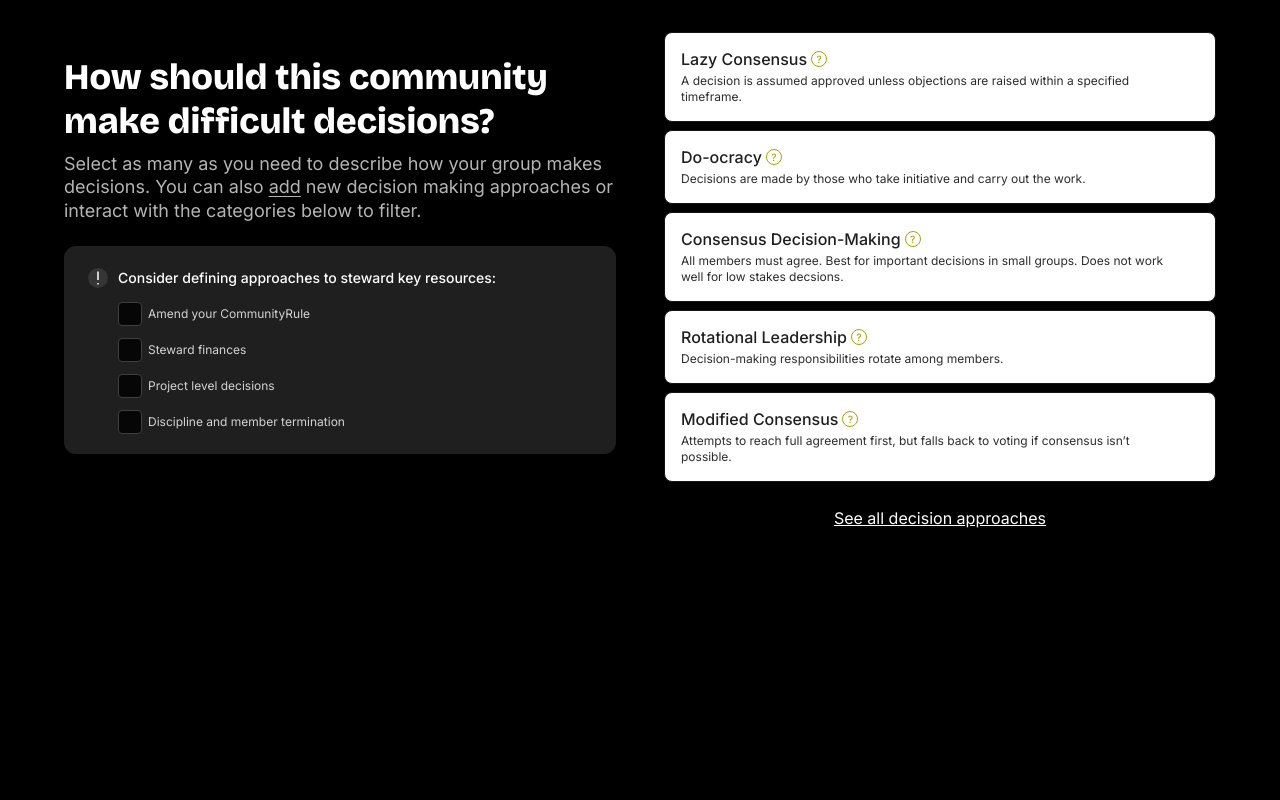
Test: Create flow decision-approaches page › Remove from the kebab deselects the approach
Click the button with aria-label "Lazy Consensus: A decision is assumed approved".
click(940, 77)  # box [664,32,1216,122]
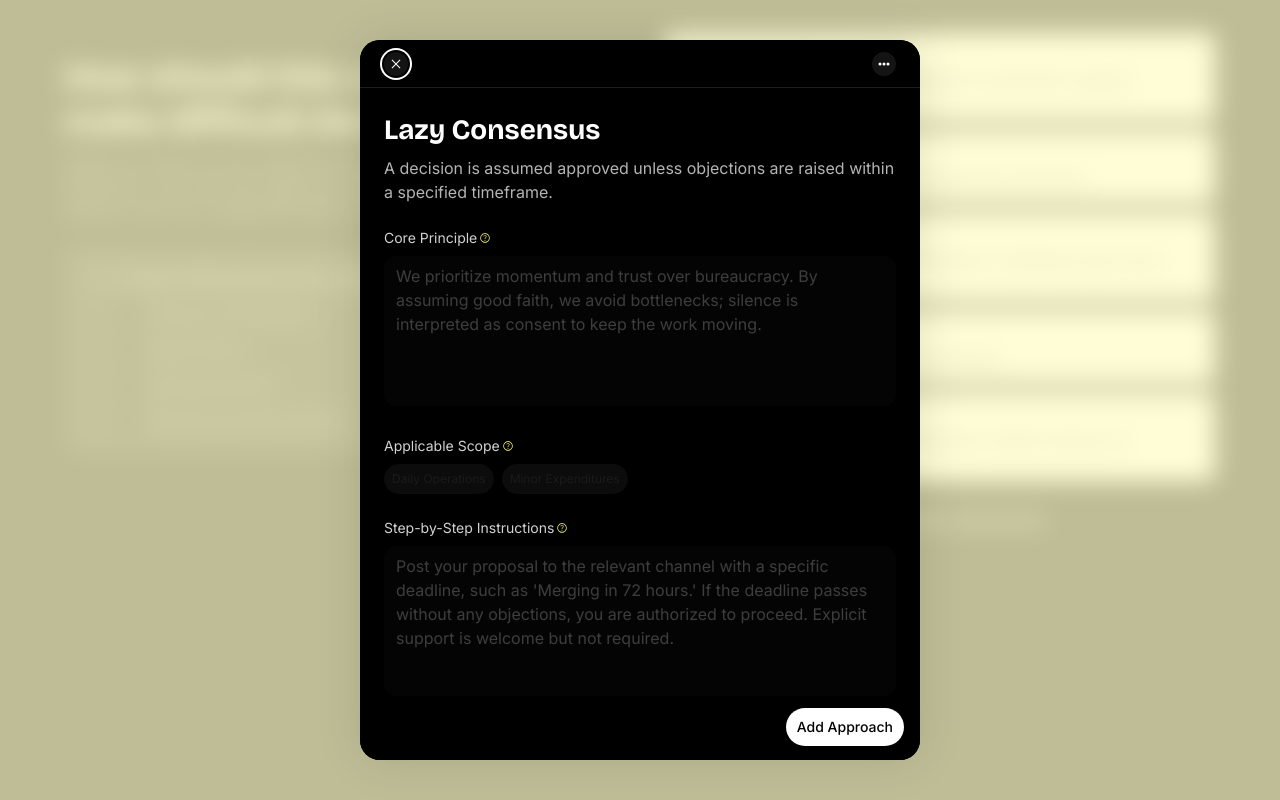
Click the button "Add Approach".
click(845, 727)  # box [786,708,904,746]
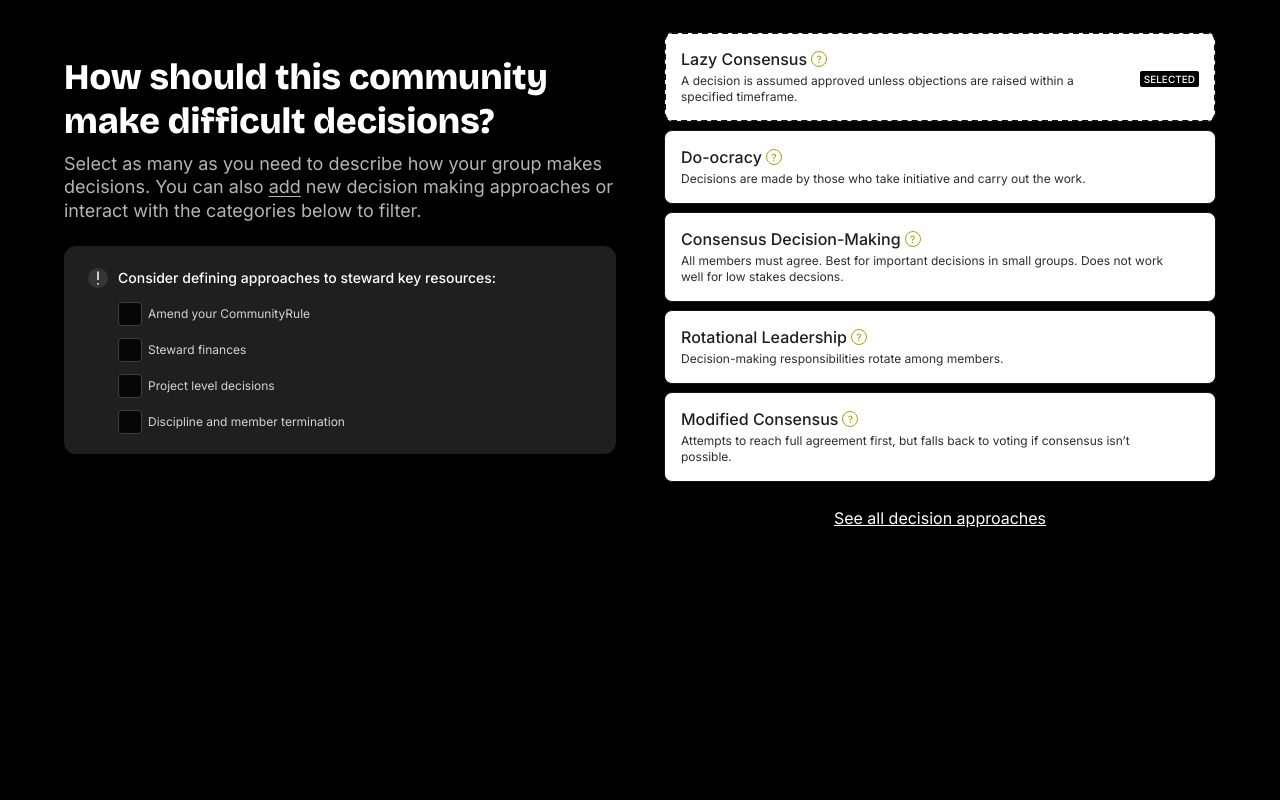
Check: the button with aria-label "Lazy Consensus: A decision is assumed approved" shows "SELECTED"
Click the button with aria-label "Lazy Consensus: A decision is assumed approved".
click(940, 77)  # box [664,32,1216,122]
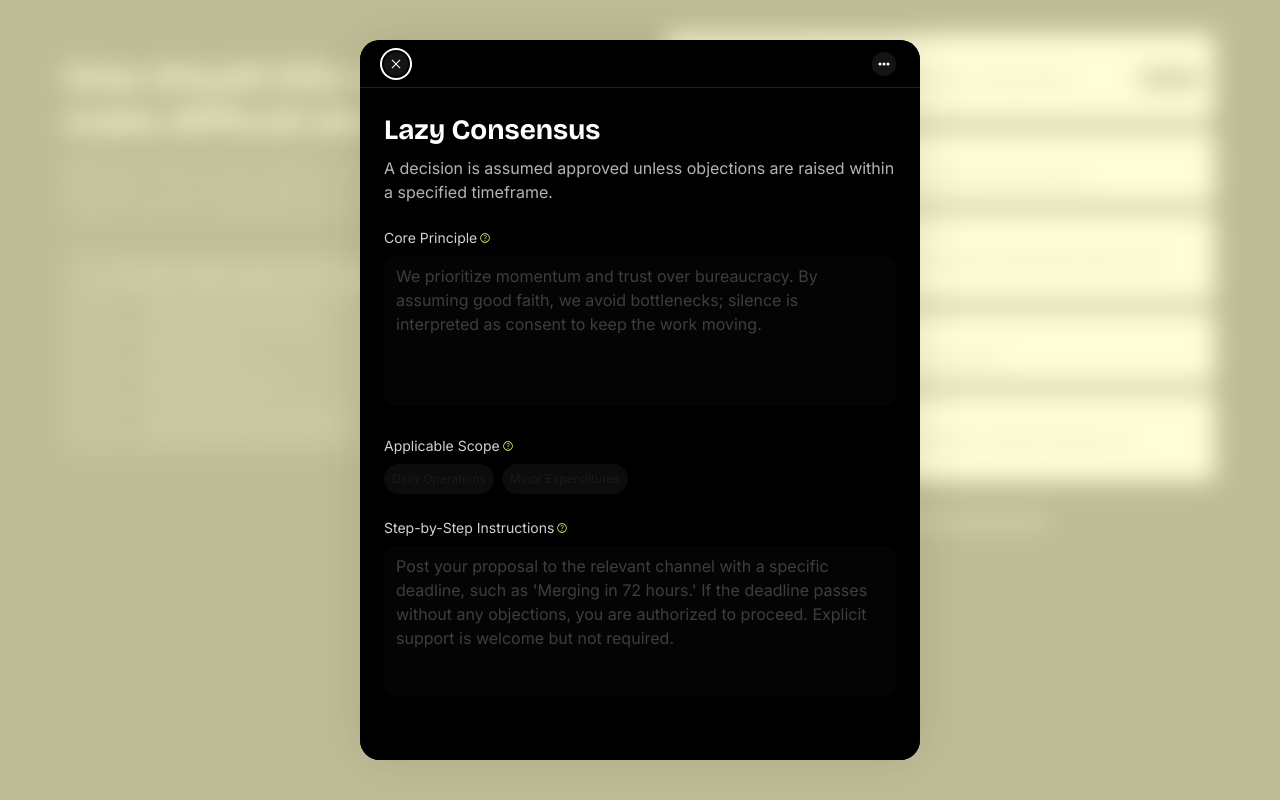
Click the button named "More options".
click(884, 64)  # box [872,52,896,76]
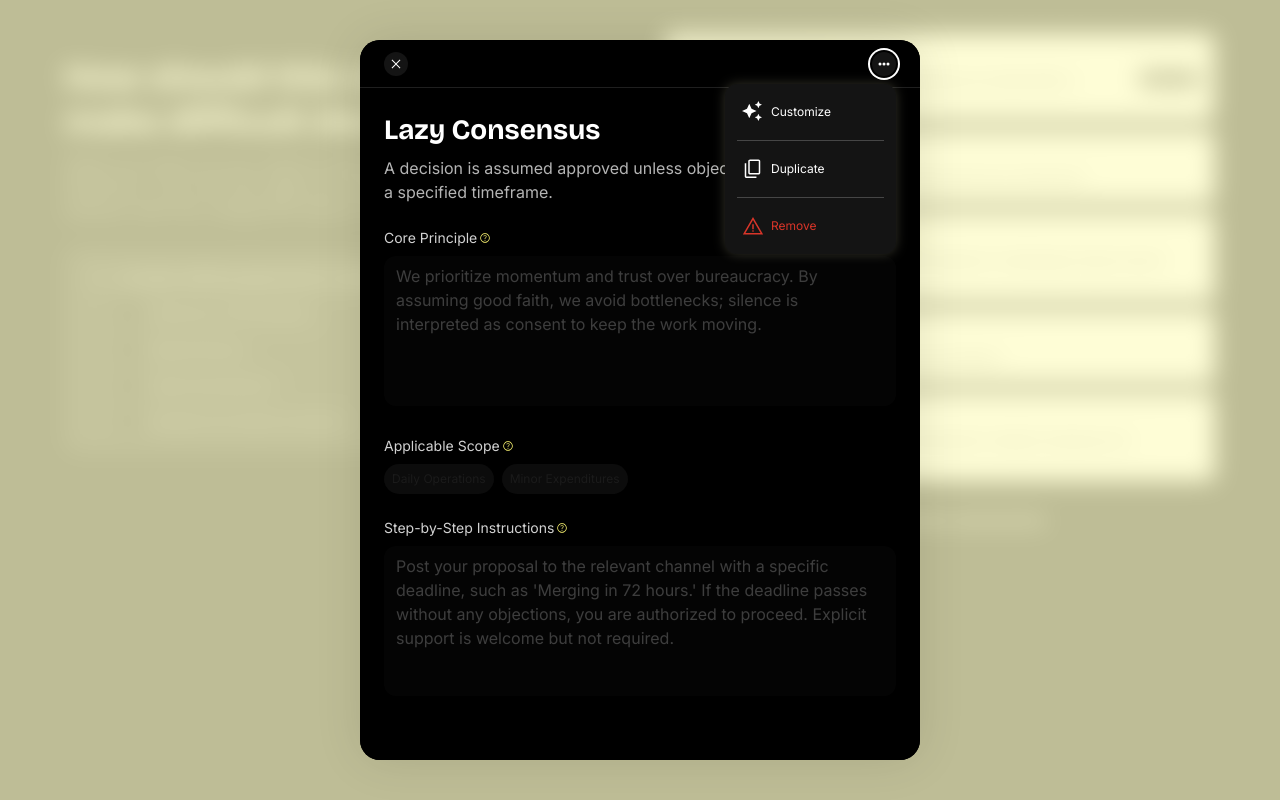
Click the menu item "Remove".
click(810, 226)  # box [737,198,884,254]
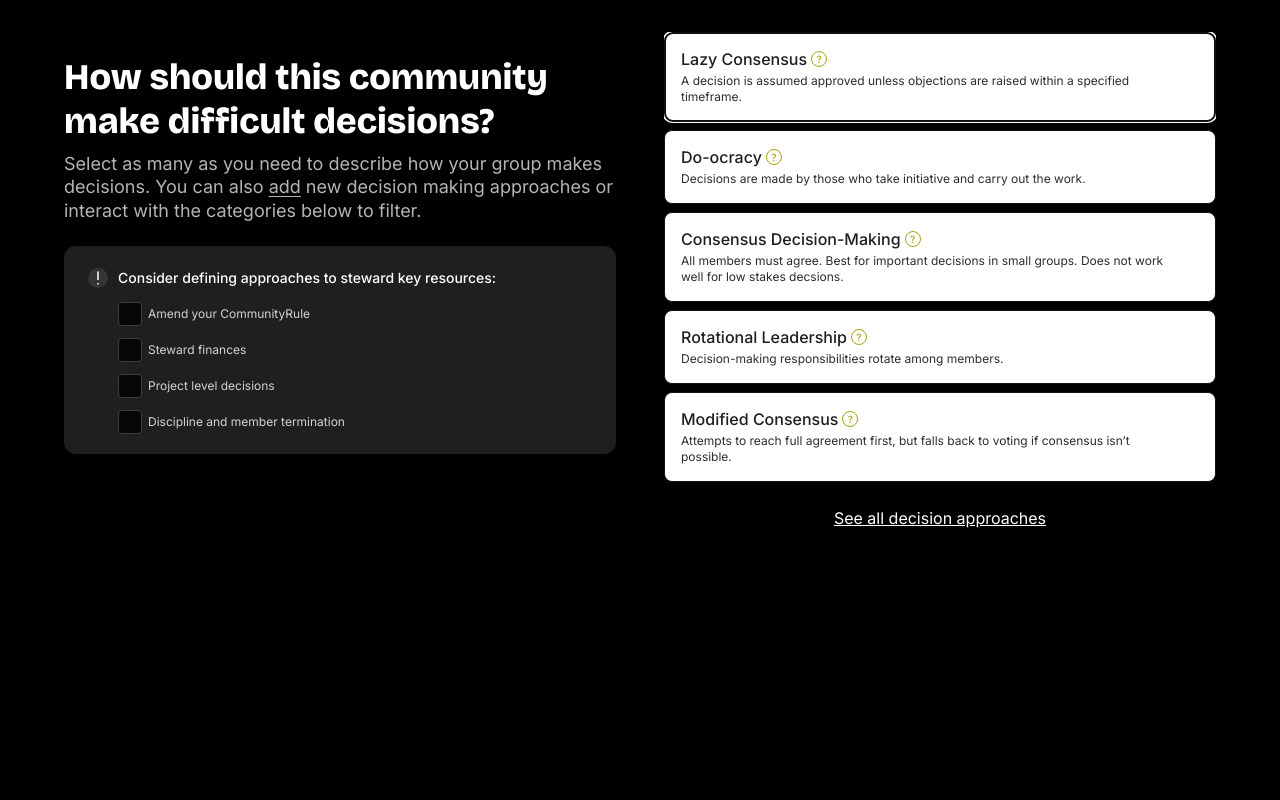
Check: the button with aria-label "Lazy Consensus: A decision is assumed approved" no longer shows "SELECTED", box [664,32,1216,122]
